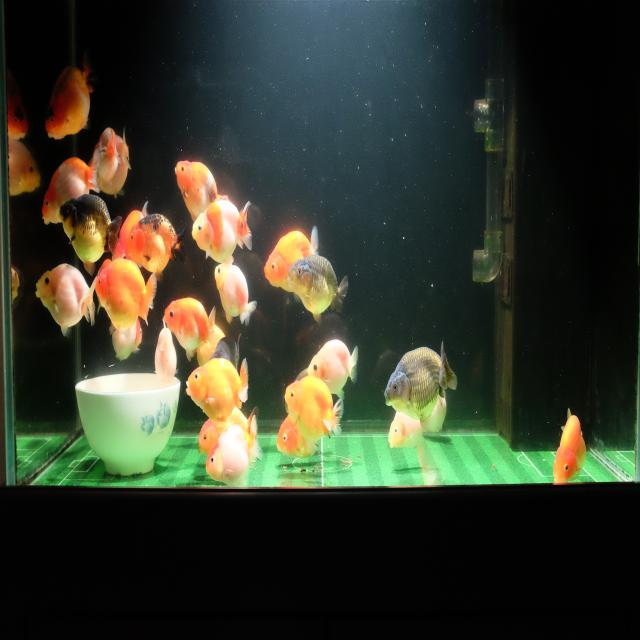Tilapia: (384, 339, 458, 420), (94, 255, 158, 338), (35, 260, 98, 340), (58, 193, 122, 268), (186, 357, 250, 428), (284, 375, 343, 452), (42, 149, 100, 227), (287, 254, 349, 325), (192, 198, 253, 268), (42, 58, 94, 140), (126, 212, 186, 280), (205, 416, 263, 486), (264, 225, 320, 296), (163, 296, 217, 364), (307, 336, 360, 401), (174, 157, 228, 219), (199, 406, 259, 460), (214, 261, 257, 328), (552, 404, 588, 483), (112, 197, 149, 261), (8, 140, 40, 198), (276, 414, 320, 454), (7, 76, 30, 142), (386, 412, 424, 451)
